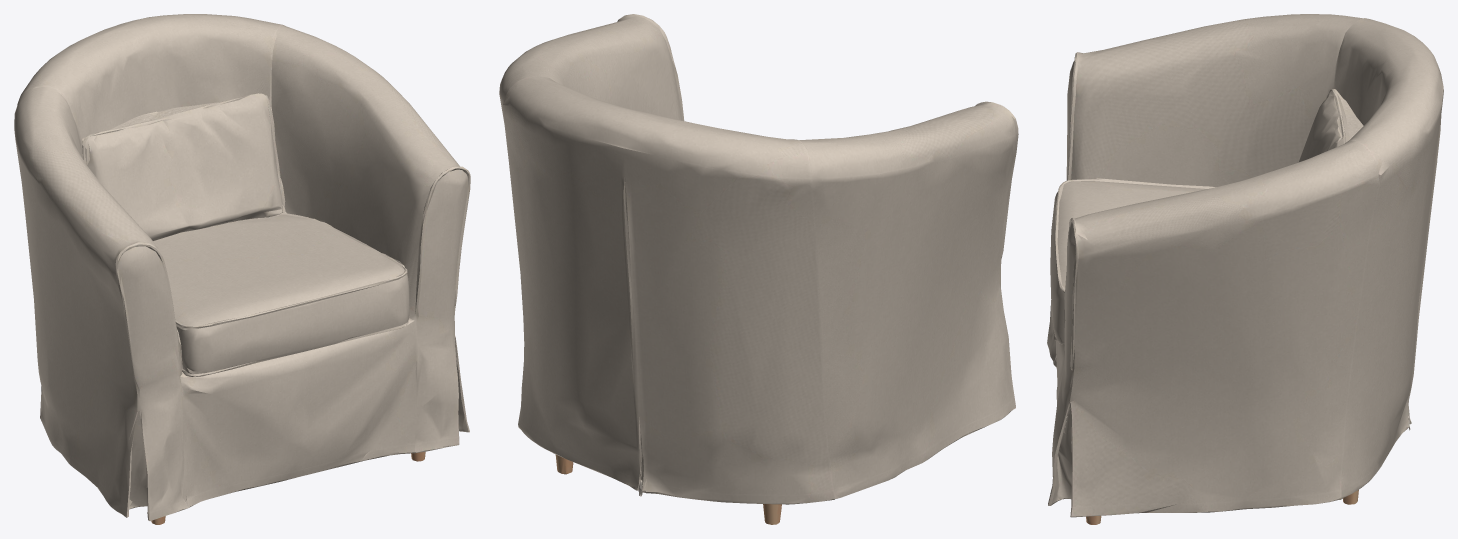
File: 37 - TULLSTA Armchair - Lofallet beige.glb
3 views of the same model, side by side, from view 1: azimuth 30°, elevation 25°; view 2: azimuth 150°, elevation 25°; view 3: azimuth 270°, elevation 25° (orthographic). The views are drawn at different scales.
Visible parts, largest first — view 1: ProcessedMeshNode; view 2: ProcessedMeshNode; view 3: ProcessedMeshNode.
Boxes of the visible parts, x1=… form: ProcessedMeshNode: x1=14, y1=14, x2=470, y2=524; ProcessedMeshNode: x1=499, y1=14, x2=1018, y2=524; ProcessedMeshNode: x1=1047, y1=14, x2=1443, y2=524.
Size of the model in its own units: 0.8185 by 0.7759 by 0.7238.
Materials: 1 (1 with a texture image).
